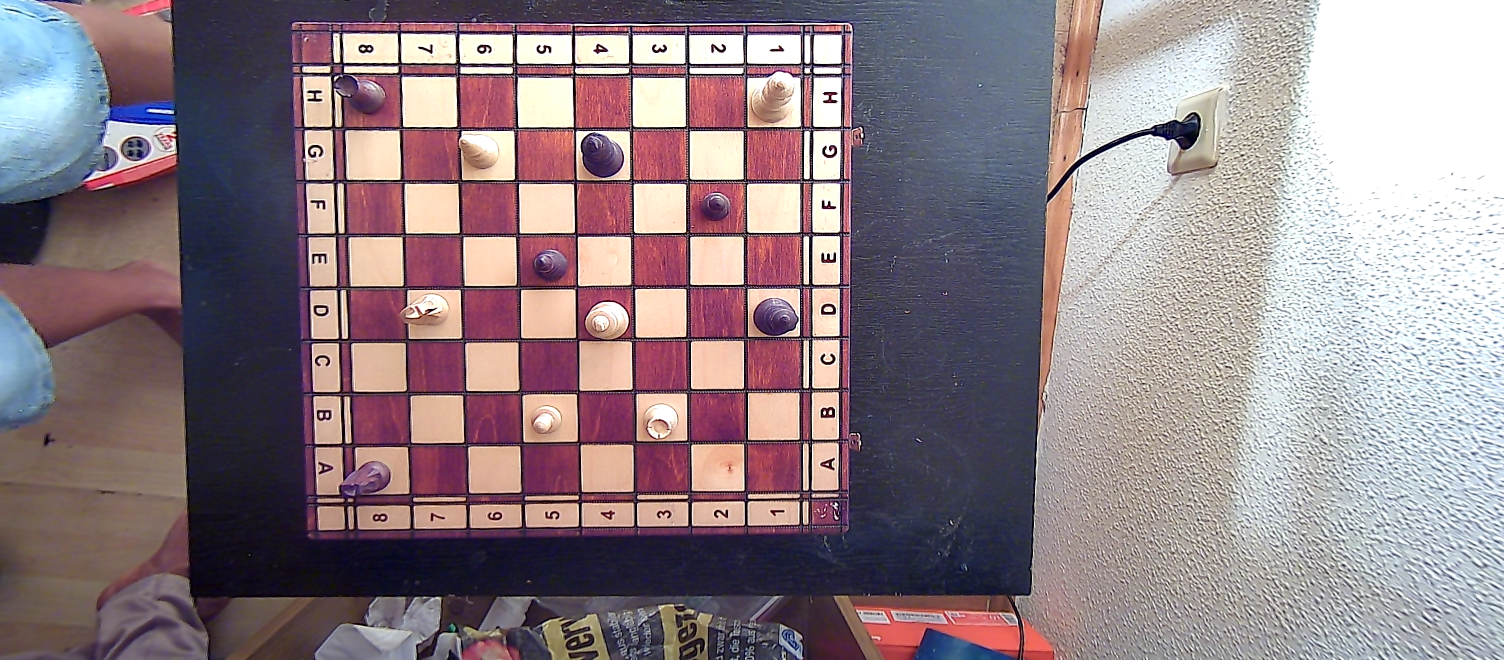black-bishop: (531, 247, 571, 283)
black-king: (578, 129, 626, 177)
black-knight: (335, 458, 394, 501)
black-pawn: (699, 189, 733, 224)
black-queen: (751, 293, 800, 338)
black-rook: (331, 69, 389, 119)
white-bishop: (455, 130, 501, 172)
white-king: (583, 298, 633, 343)
white-knight: (397, 291, 454, 328)
white-pawn: (527, 399, 566, 438)
white-queen: (749, 68, 797, 122)
white-rook: (639, 401, 681, 443)
